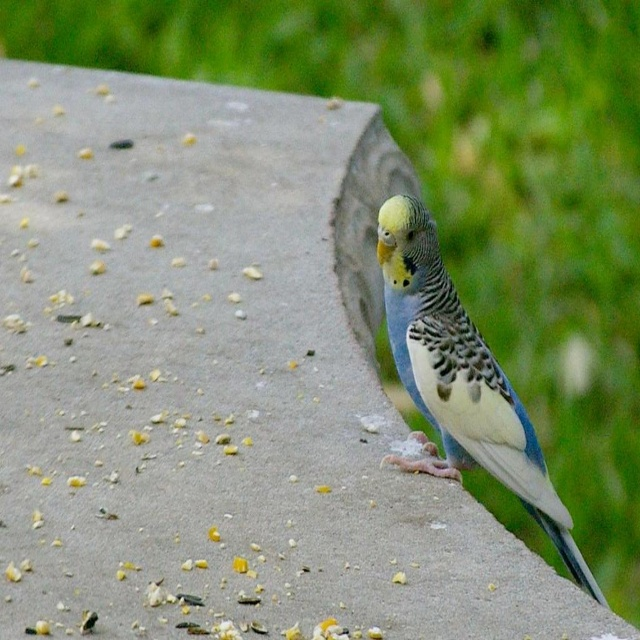Parrot: (379, 191, 610, 611)
